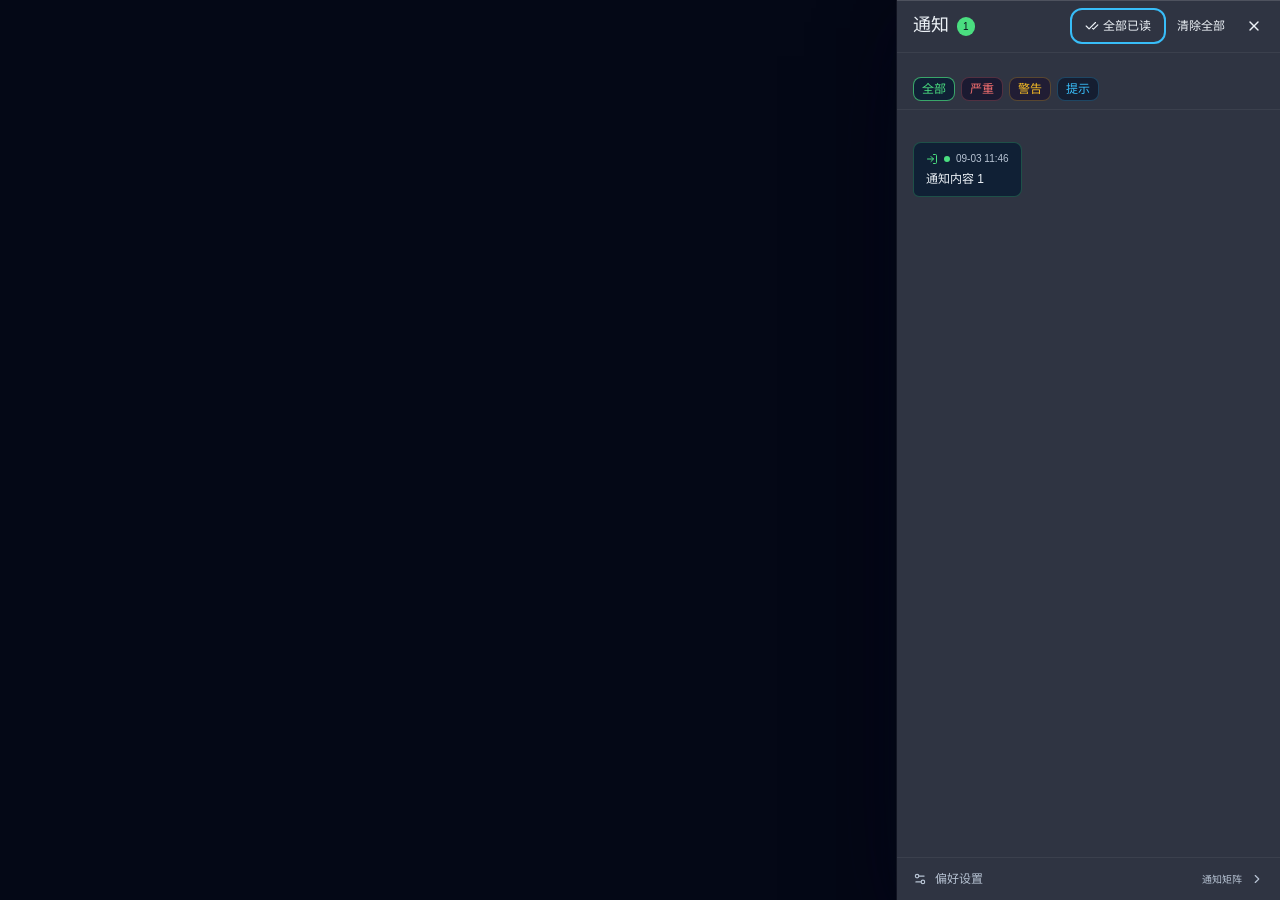
NotificationDrawer 清除全部确认 › 点「清除全部」先弹确认，未确认前不清空
The width and height of the screenshot is (1280, 900).
Click the button "清除全部" at (1201, 26), box [1166,12,1236,40]
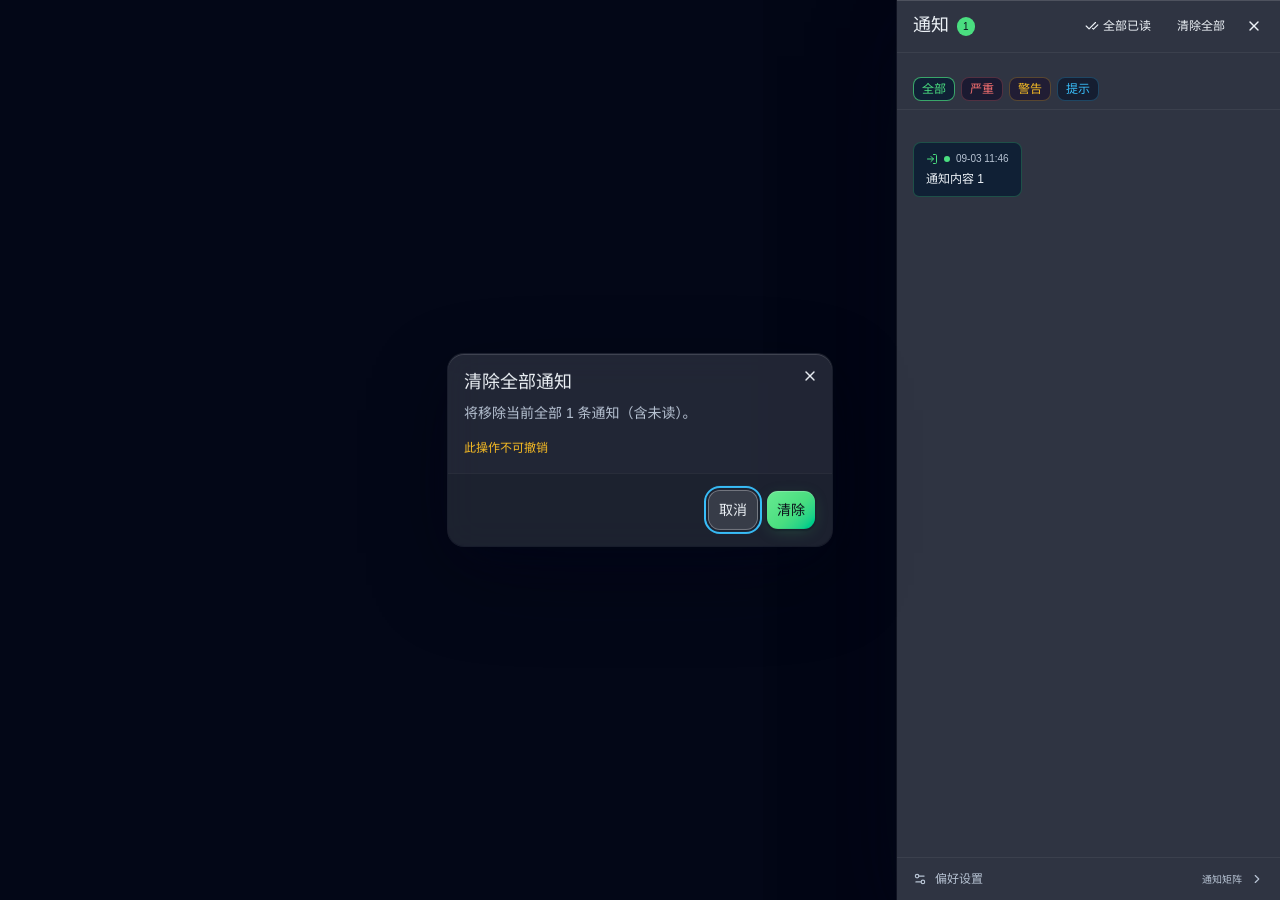
Result: the dialog "清除全部通知" is shown at [448,354,832,546]
